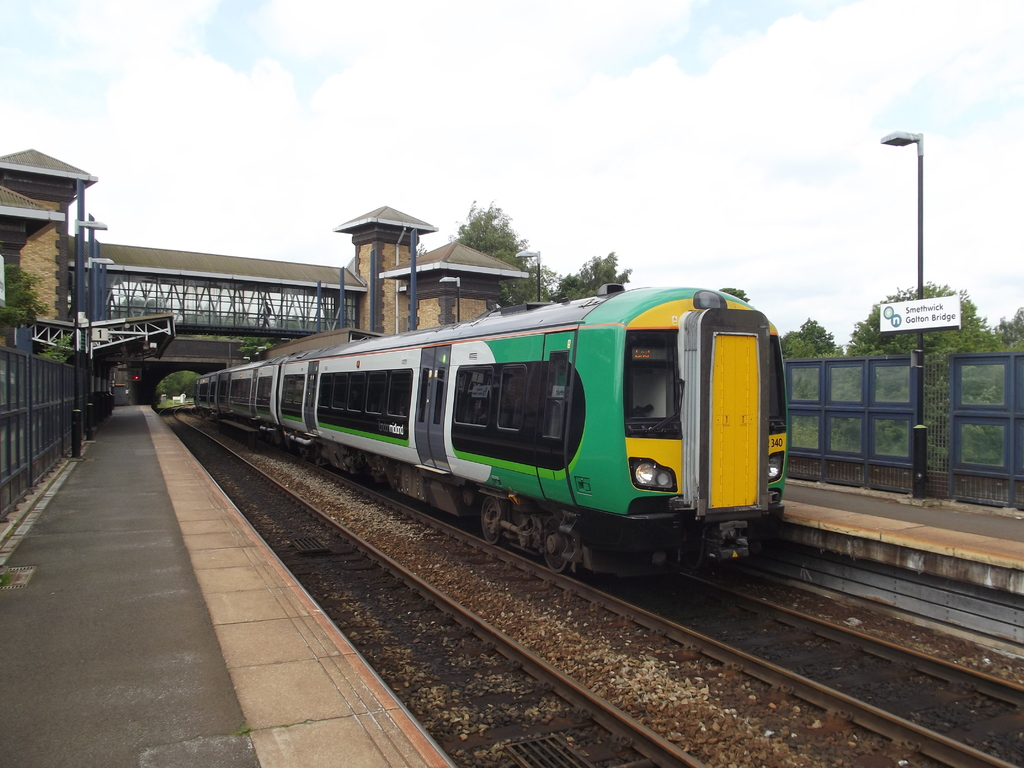Tree: (778, 280, 1022, 477), (108, 295, 323, 399), (442, 194, 558, 309), (551, 254, 630, 309), (0, 265, 49, 326)
